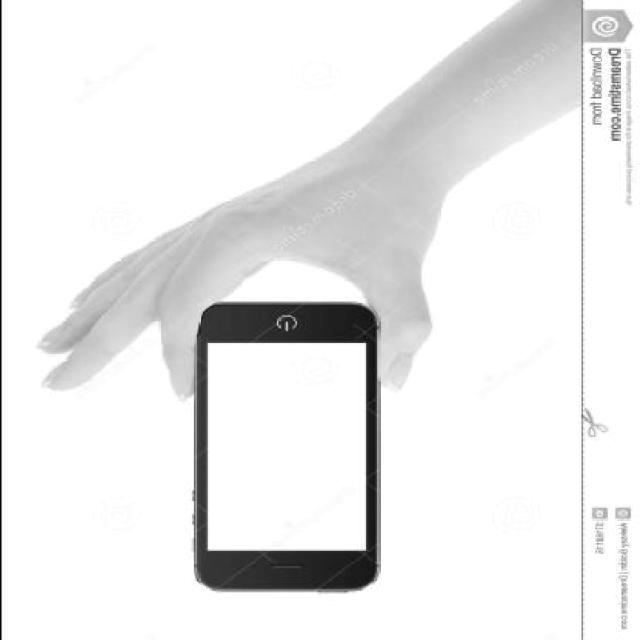fake: (190, 298, 378, 598)
